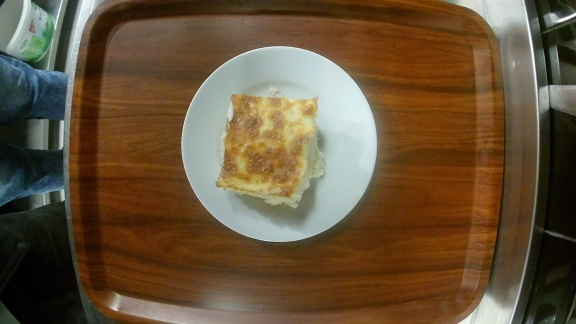firinmakarna: (181, 44, 379, 246)
